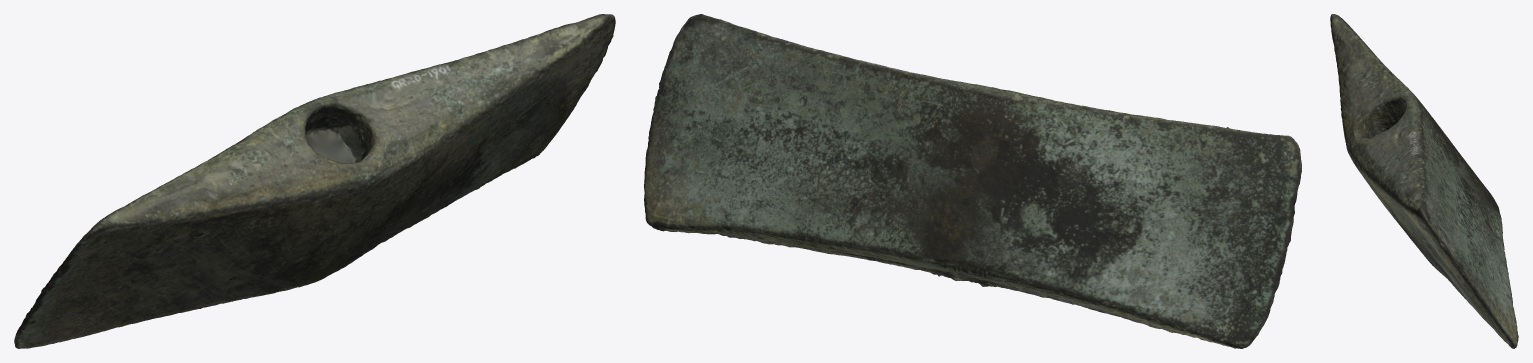
Rendered from preview.glb.
3 renders of one model, left to right at view 1: azimuth 30°, elevation 25°; view 2: azimuth 150°, elevation 25°; view 3: azimuth 270°, elevation 25°, orthographic. The views are drawn at different scales.
Visible parts, largest first — view 1: Object_2, Object_3; view 2: Object_3, Object_2; view 3: Object_2, Object_3.
Part boxes in pixels (x1=…): Object_2: x1=196, y1=14, x2=615, y2=306; Object_3: x1=14, y1=91, x2=396, y2=348; Object_3: x1=913, y1=83, x2=1301, y2=348; Object_2: x1=644, y1=14, x2=1037, y2=295; Object_2: x1=1339, y1=82, x2=1518, y2=348; Object_3: x1=1330, y1=14, x2=1499, y2=213.
Bounding box in the file's own units: 4.85 × 1.54 × 1.61.
Materials: 1 (1 with a texture image).
